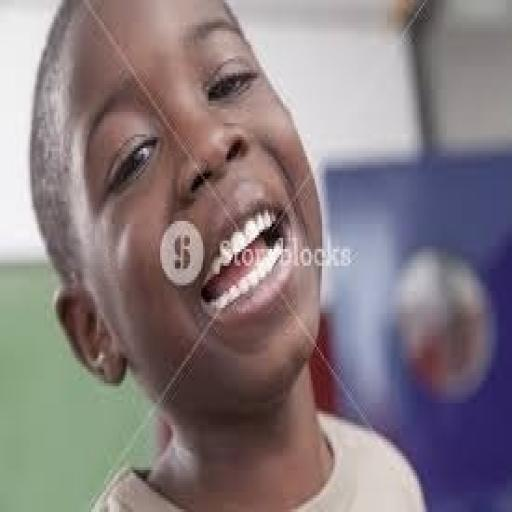laughing: (22, 0, 428, 509)
